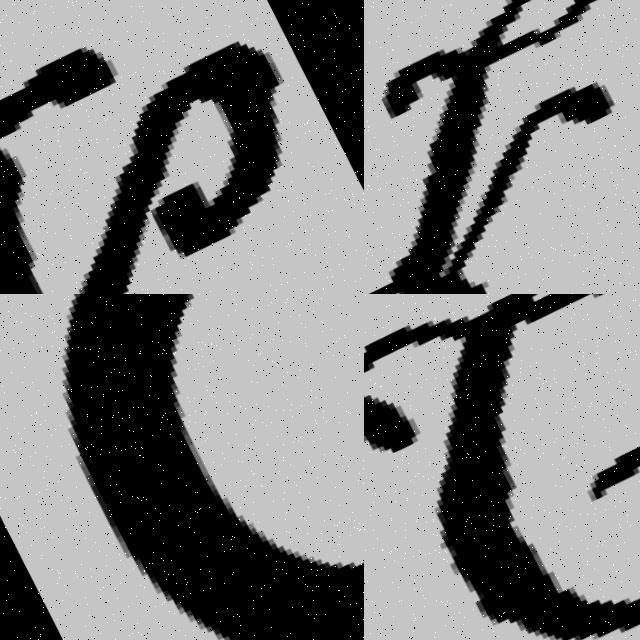0: (0, 294, 364, 640)
G: (364, 294, 640, 640)
K: (364, 0, 640, 294)
